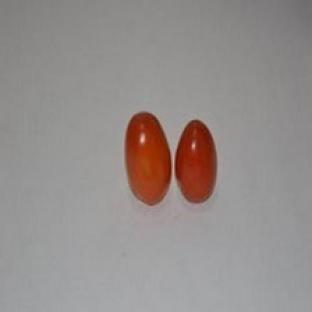Tomato: (126, 112, 171, 204), (176, 120, 217, 201)
